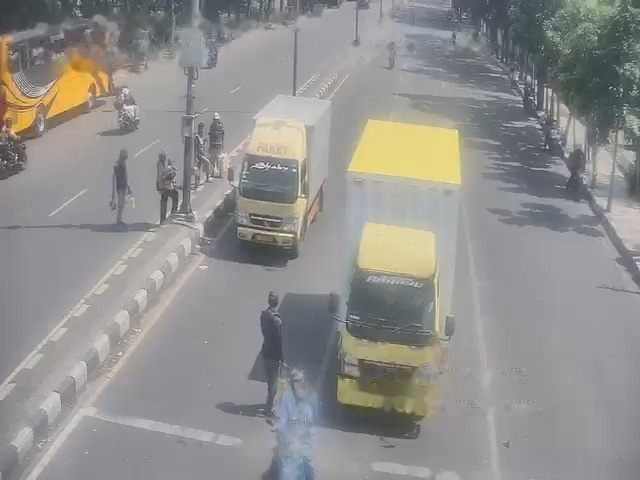Bis: (0, 19, 116, 136)
Motor: (270, 369, 316, 479), (0, 143, 25, 174), (118, 108, 138, 132), (206, 45, 217, 68), (388, 53, 395, 68), (472, 27, 479, 42), (451, 28, 456, 45), (410, 12, 415, 24), (448, 9, 453, 20)
Truk: (345, 97, 460, 432), (234, 94, 330, 257)
